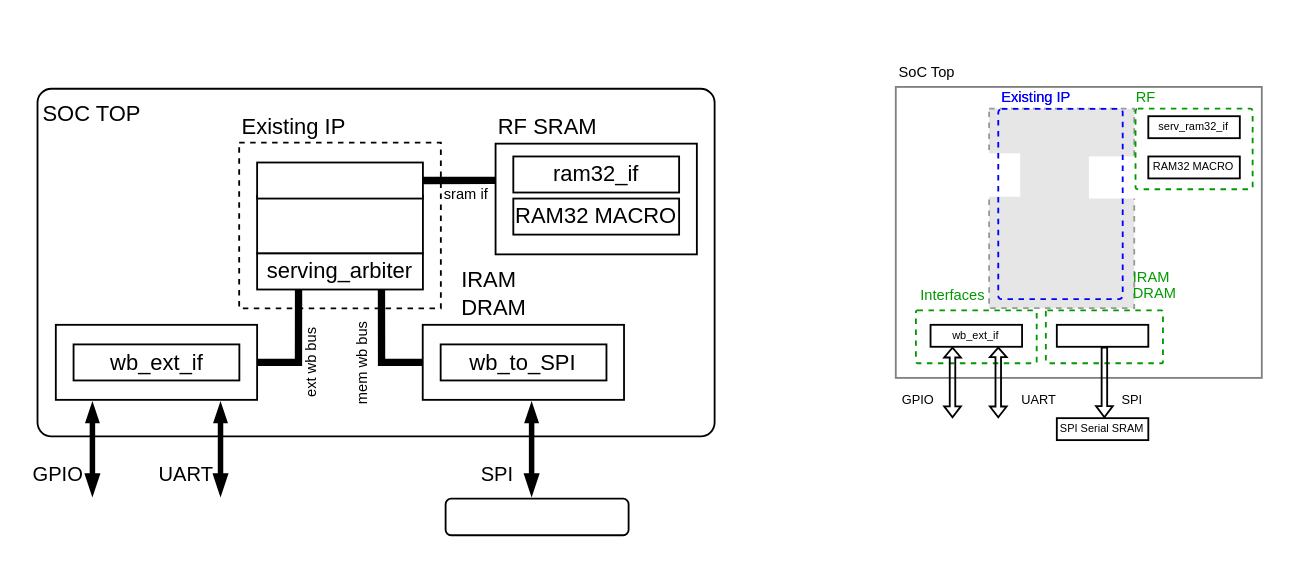
The diagram is 1294 pixels wide and 567 high, and some of its shapes have lost their labels. Grey dashed boxes stand in for pictures. The centre of each missing label's shape, as x and y in pixels:
serv_rf_ram_if: pixel 339 180
serv_top: pixel 339 223
SPI SRAM: pixel 536 516
wb_to_SPI_RAM: pixel 1101 335
